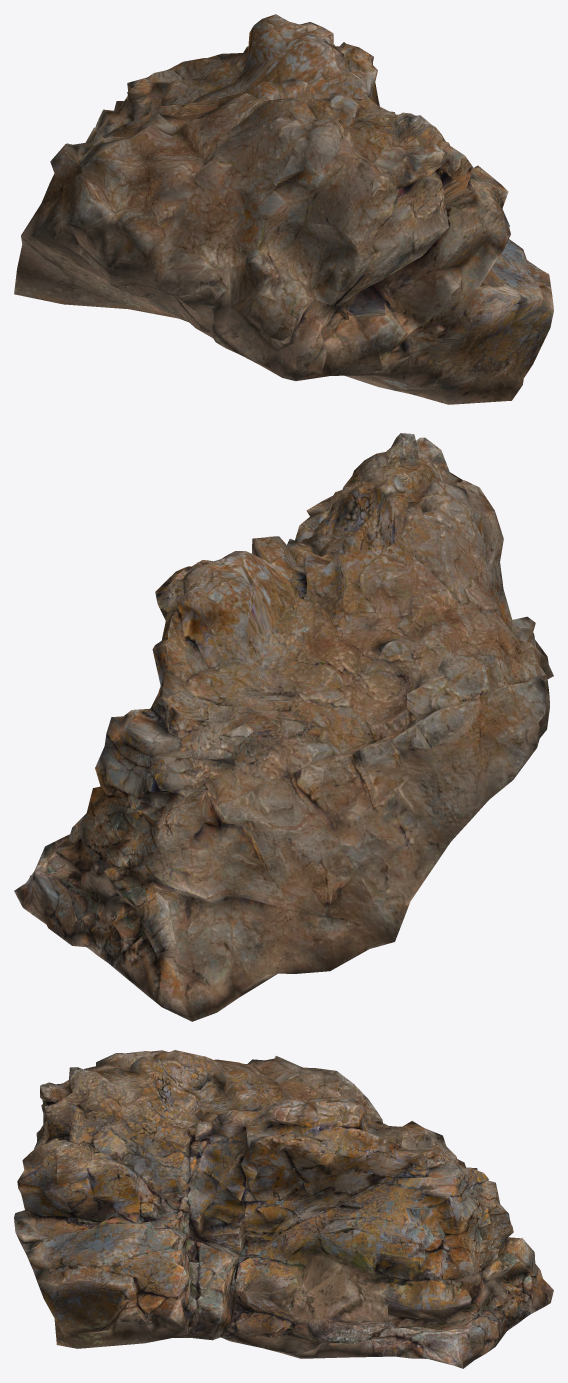
The model's file is boulder_01.gltf.
3 renders of one model, top to bottom at view 1: azimuth 30°, elevation 25°; view 2: azimuth 150°, elevation 25°; view 3: azimuth 270°, elevation 25°, orthographic. The views are drawn at different scales.
Visible parts, largest first — view 1: boulder_01__x; view 2: boulder_01__x; view 3: boulder_01__x.
Boxes of the visible parts, x1,y1,x2,y2 form: boulder_01__x: (14,14,553,404); boulder_01__x: (14,433,553,1021); boulder_01__x: (14,1050,553,1368).
Size of the model in its own units: 1.27 by 0.9974 by 1.82.
1 material, 1 textured.
